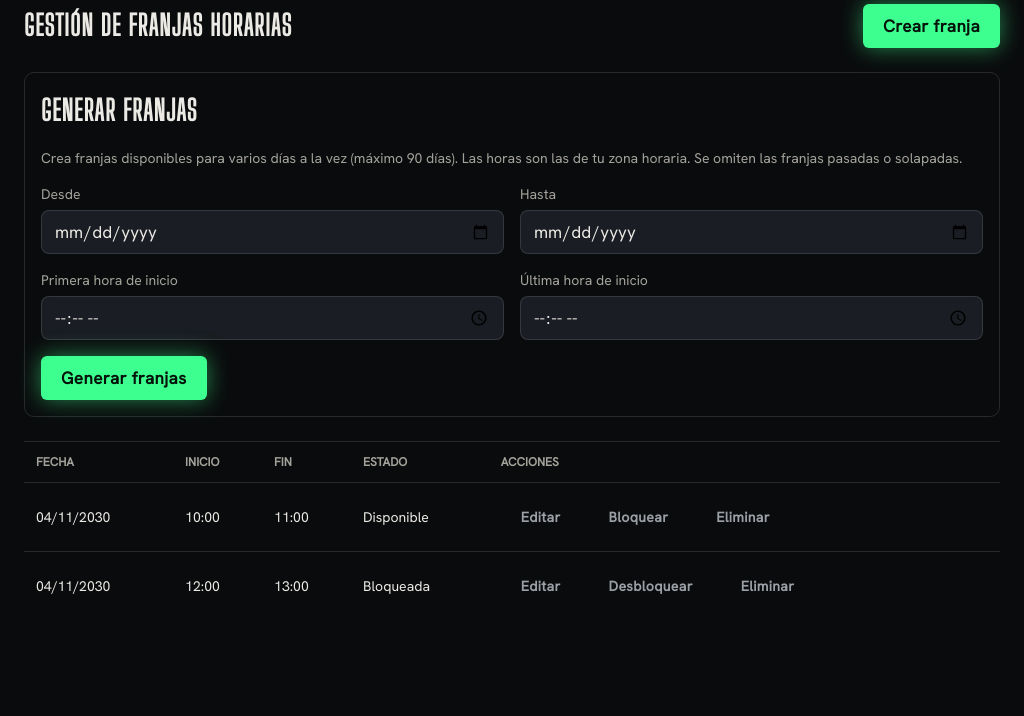
it: AdminSlotsPage › muestra el error SLOT_OVERLAP al crear una franja solapada
Expected: the text "10:00" is shown, [173,483,262,552]
Click the button "Crear franja": {"x": 931, "y": 26} [863,4,1000,48]
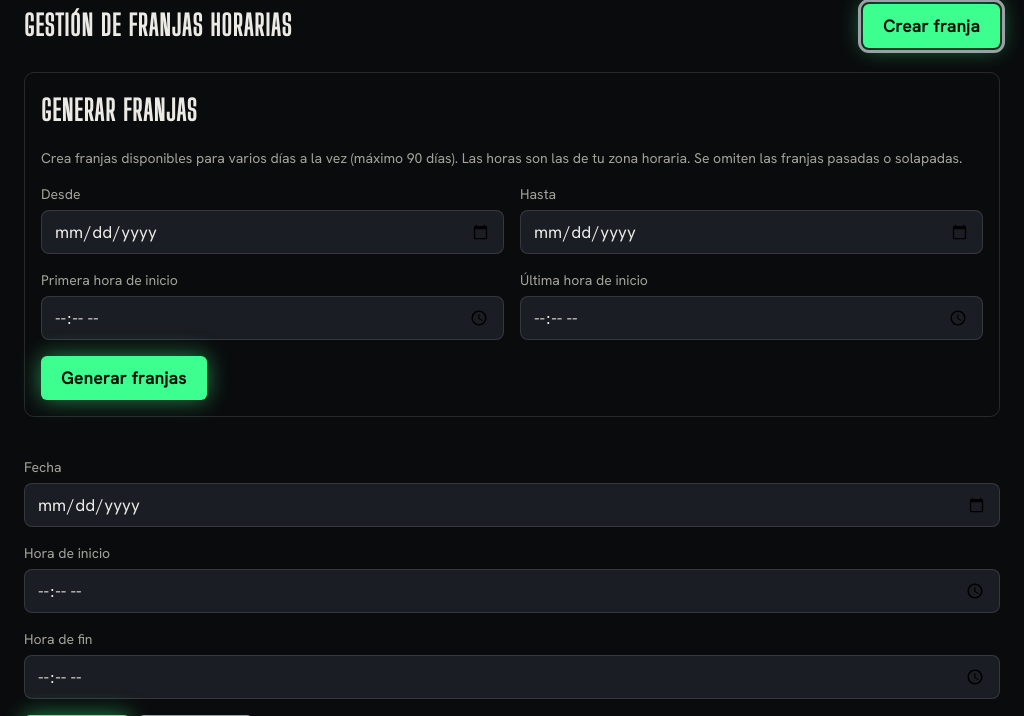
In the date field labelled "Fecha": {"x": 512, "y": 505} [24,483,1000,527], type "2030-11-04"
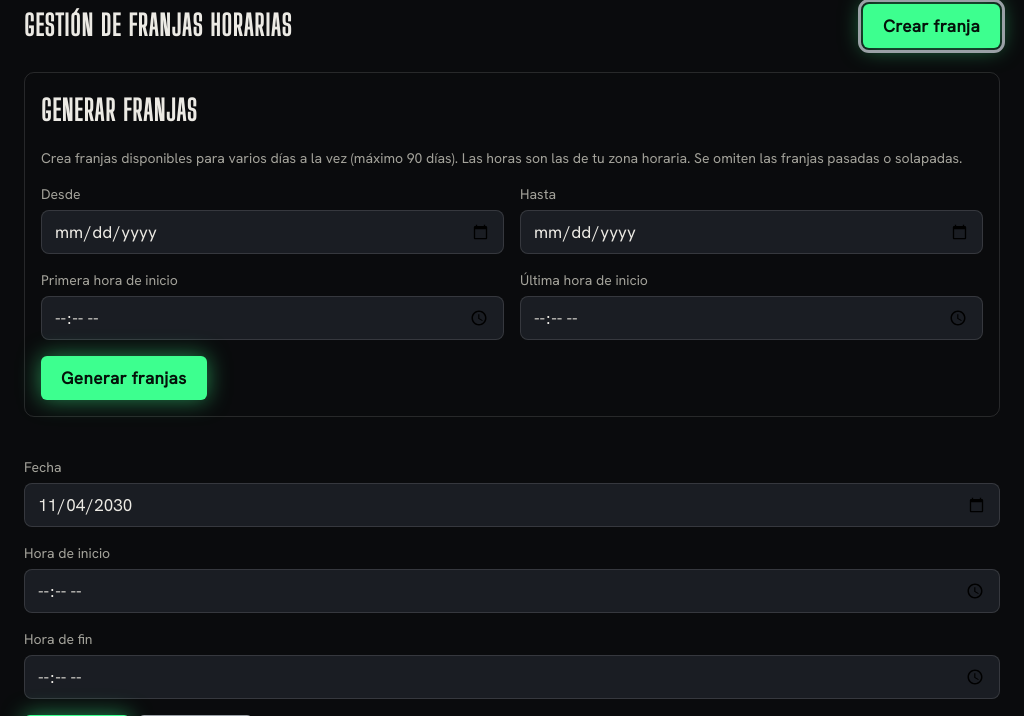
In the time field labelled "Hora de inicio": {"x": 512, "y": 591} [24,569,1000,613], type "10:30"
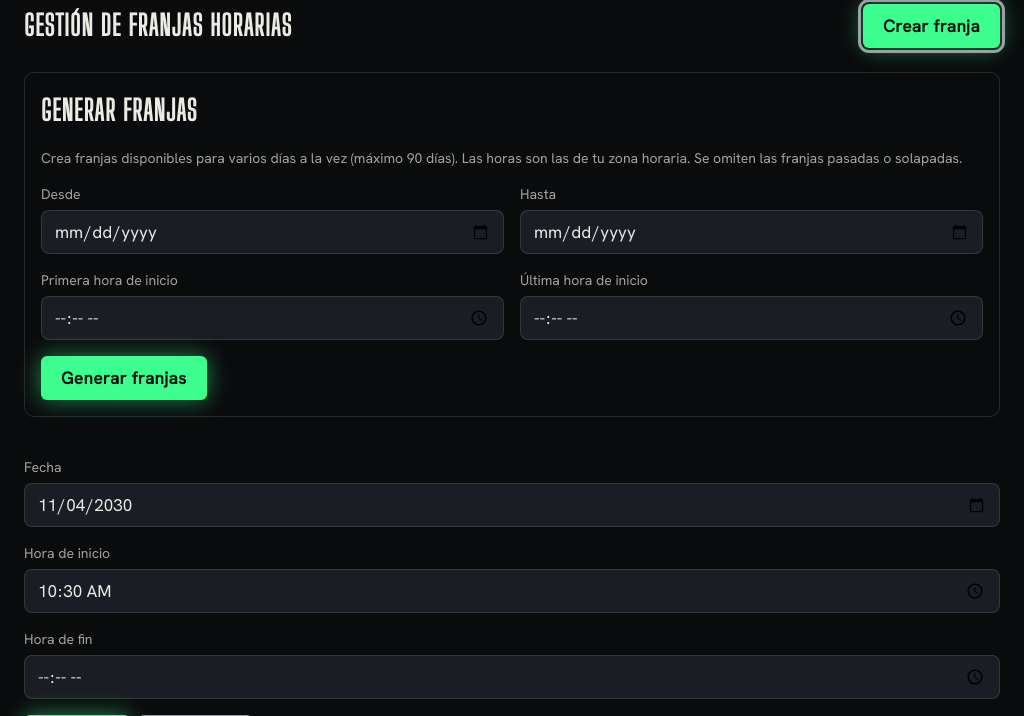
In the time field labelled "Hora de fin": {"x": 512, "y": 677} [24,655,1000,699], type "11:30"
(page scrolled)
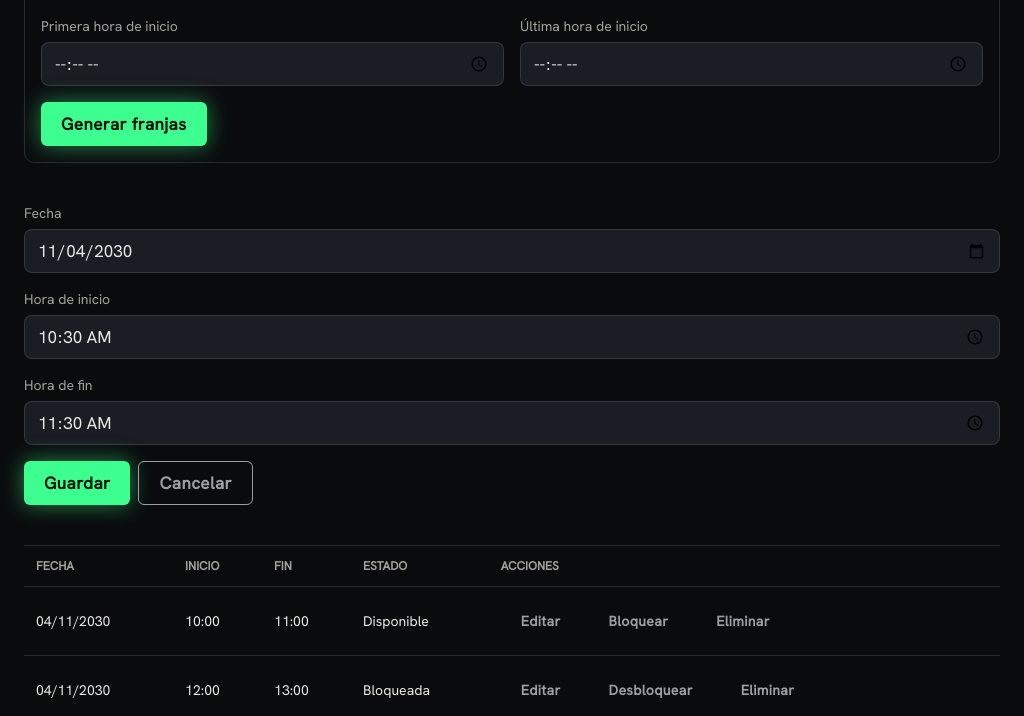
Click the button "Guardar": {"x": 77, "y": 483} [24,461,130,505]
(page scrolled)
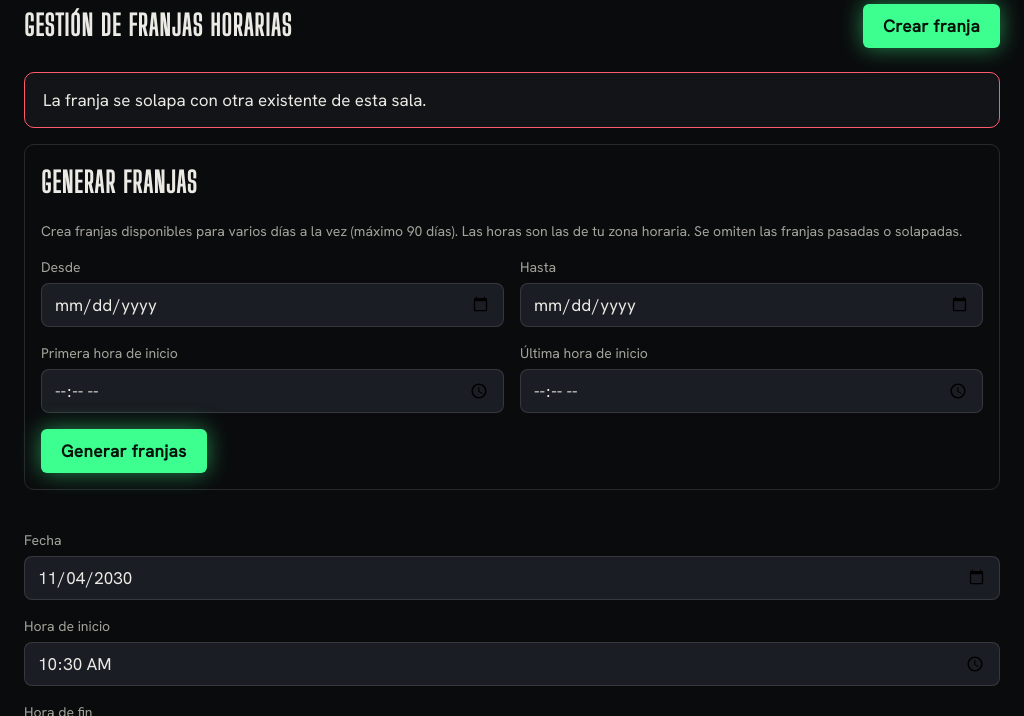
Now the message shows "se solapa con otra existente", box [43,89,426,111]
